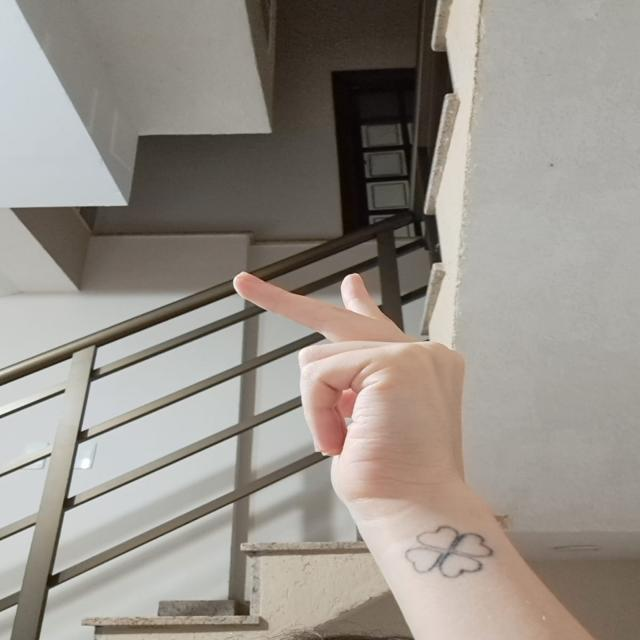K: (221, 254, 483, 504)
